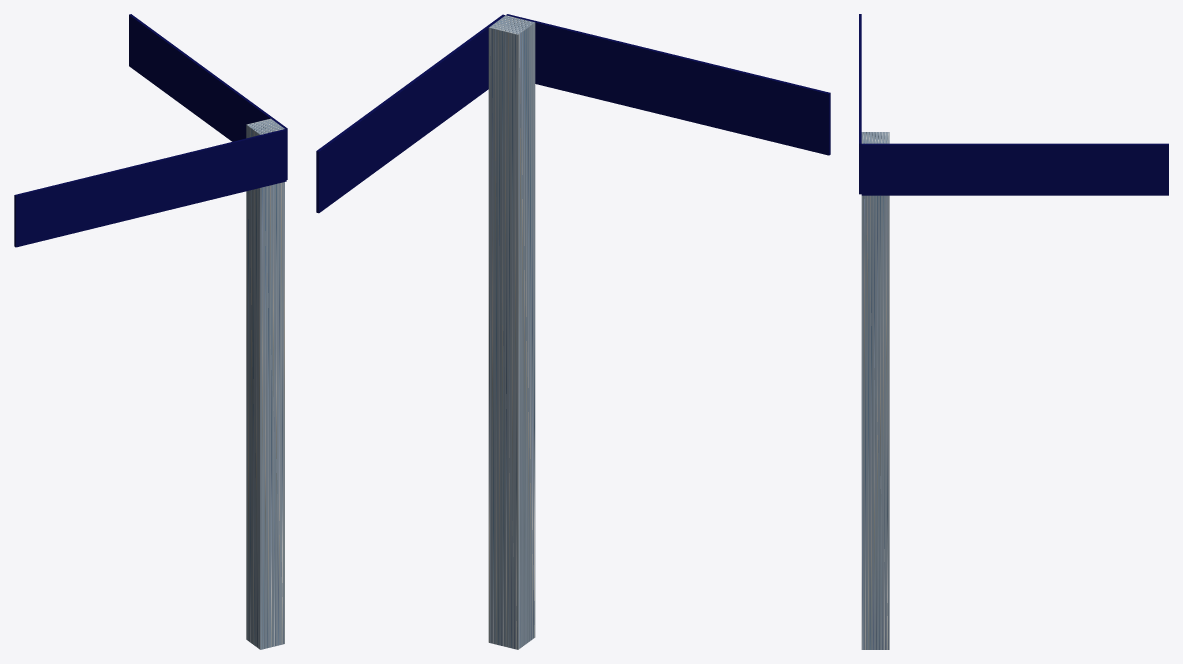
Rendered from plang nama jalan 1-1.fbx.
3 renders of one model, left to right at view 1: azimuth 30°, elevation 25°; view 2: azimuth 150°, elevation 25°; view 3: azimuth 270°, elevation 25°, orthographic. The views are drawn at different scales.
Visible parts, largest first — view 1: Cube, Cube.002, Cube.001; view 2: Cube, Cube.002, Cube.001; view 3: Cube.001, Cube, Cube.002.
Part boxes in pixels (x1,y1,x2,y2): Cube: [246, 118, 284, 649]; Cube.002: [14, 129, 286, 247]; Cube.001: [129, 14, 287, 179]; Cube: [488, 15, 535, 649]; Cube.002: [506, 14, 830, 155]; Cube.001: [316, 14, 505, 213]; Cube.001: [861, 143, 1168, 195]; Cube: [861, 132, 889, 649]; Cube.002: [859, 14, 861, 194].
Bounding box in the file's own units: 0.7554 × 1.36 × 0.7554.
